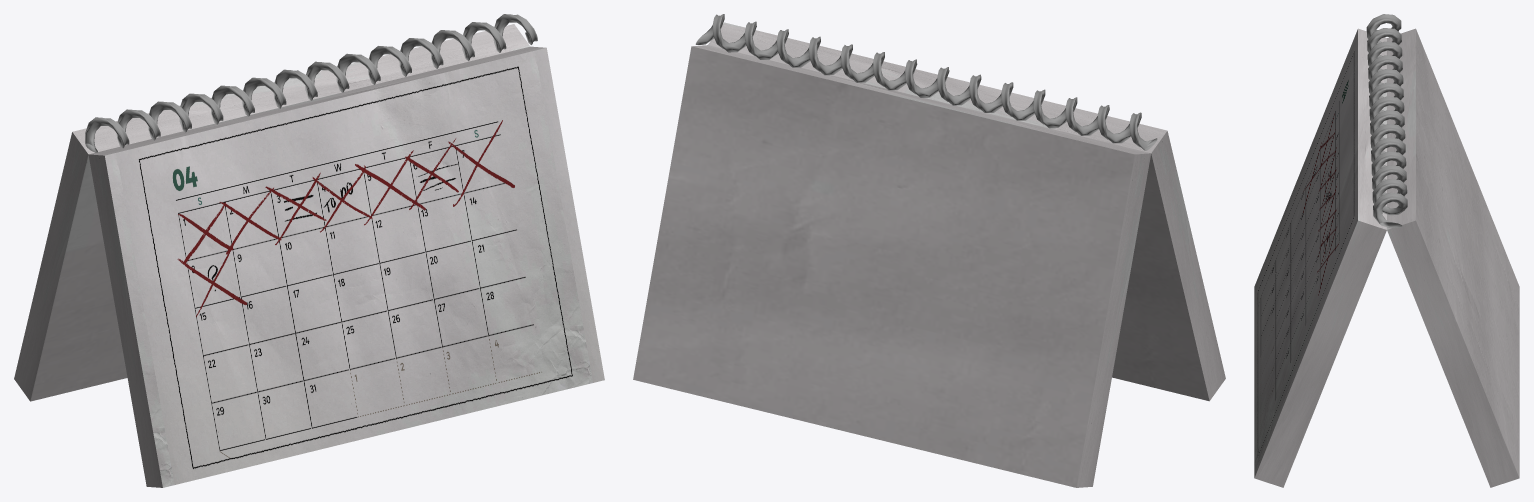
The model's file is calendar.fbx.
3 renders of one model, left to right at view 1: azimuth 30°, elevation 25°; view 2: azimuth 150°, elevation 25°; view 3: azimuth 270°, elevation 25°, orthographic. The views are drawn at different scales.
Parts seen in each view (by area): view 1: Circle; view 2: Circle; view 3: Circle.
Boxes of the visible parts, bbox=[...] form: Circle: bbox=[14, 14, 604, 487]; Circle: bbox=[633, 14, 1225, 487]; Circle: bbox=[1254, 14, 1519, 487].
Size of the model in its own units: 30.23 by 21.02 by 17.51.
